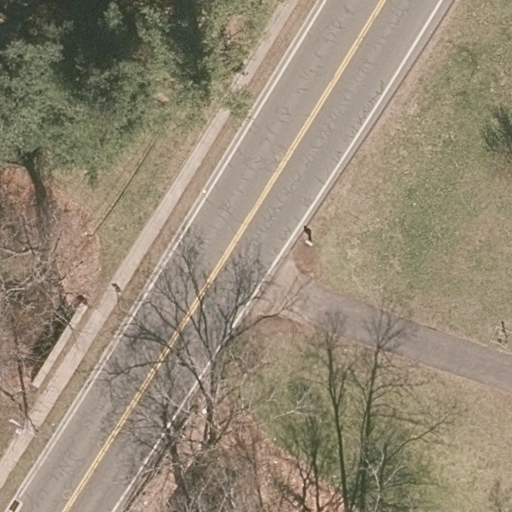DT: (6, 414, 38, 439)
